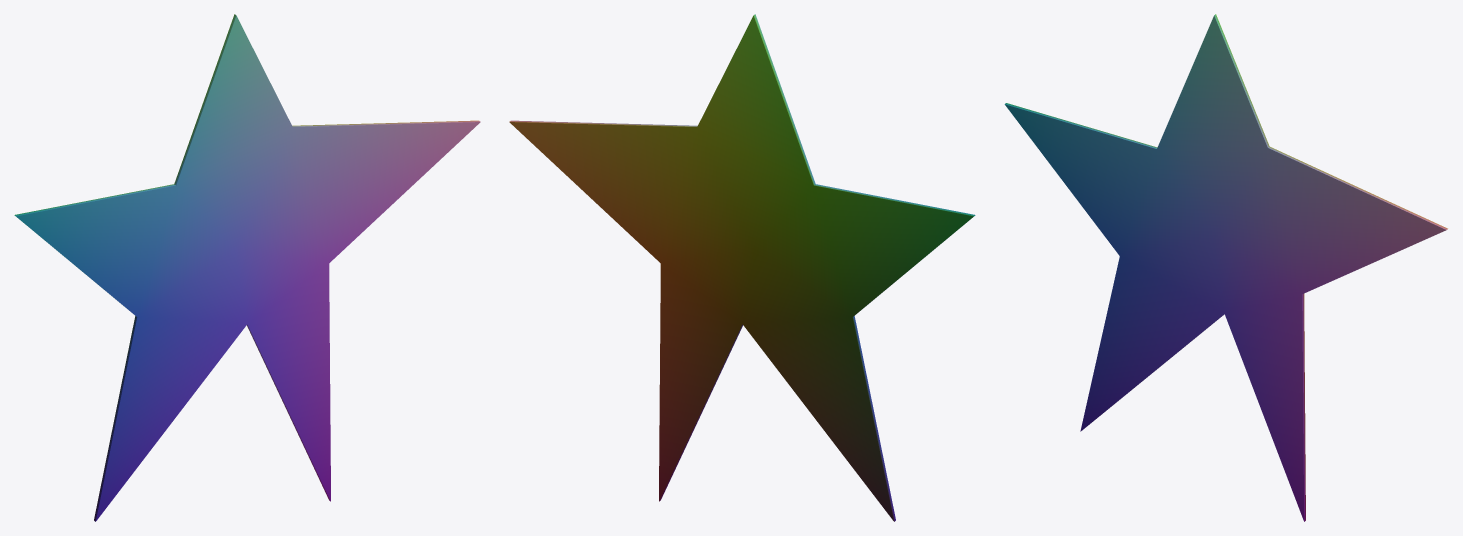
File: zeometry-flat-shapes-flat-star_v4.glb
3 renders of one model, left to right at view 1: azimuth 30°, elevation 25°; view 2: azimuth 150°, elevation 25°; view 3: azimuth 330°, elevation 25°, orthographic. The views are drawn at different scales.
Visible parts, largest first — view 1: Flat Star_v4; view 2: Flat Star_v4; view 3: Flat Star_v4.
Part boxes in pixels (box(x1,y1,x2,y2)): Flat Star_v4: box(14, 14, 480, 521); Flat Star_v4: box(509, 14, 975, 521); Flat Star_v4: box(1004, 14, 1447, 521).
Size of the model in its own units: 0.4774 by 0.5 by 0.00342.
